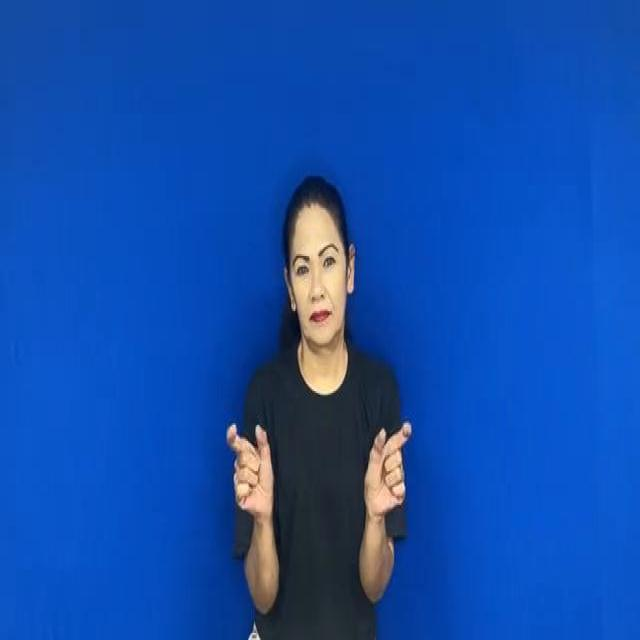crab: (212, 401, 430, 532)
